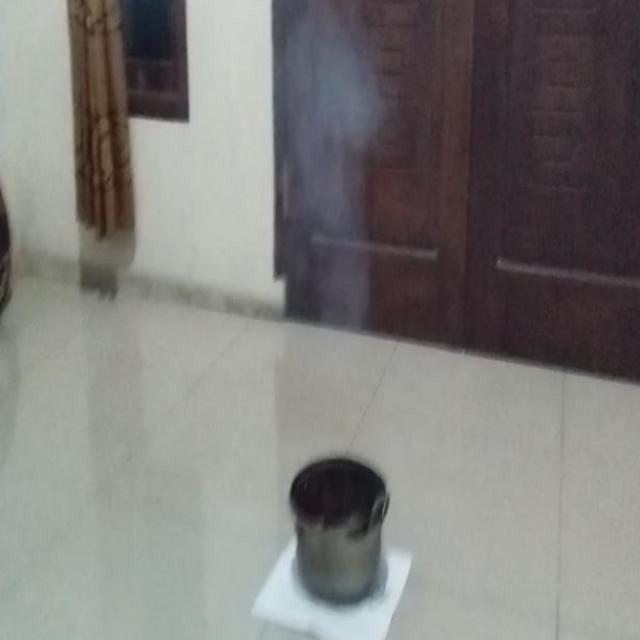fire: (272, 0, 383, 333)
